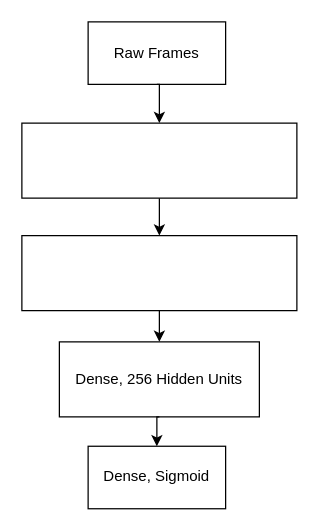
The diagram is 319 pixels wide and 531 high, and some of its shapes have lost their labels. The centre of each missing label's shape, as x and y in pixels:
Conv2D, 20 Filters, Kernel Size = 5: (159,160)
Conv2D, 40 Filters, Kernel Size = 3: (159,272)
